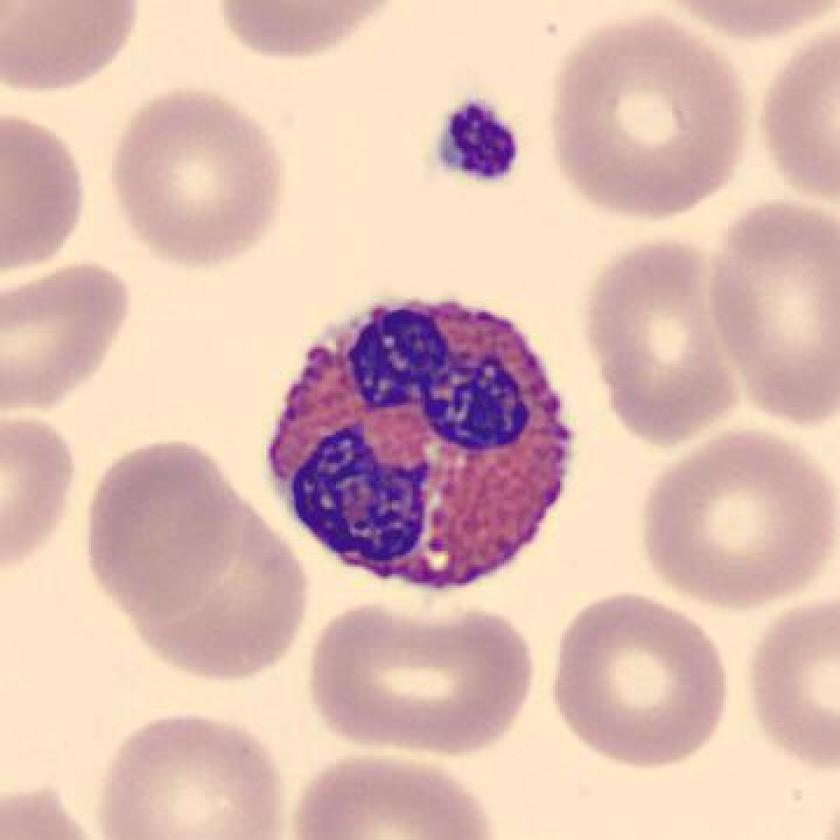eosinophil: (251, 281, 577, 596)
